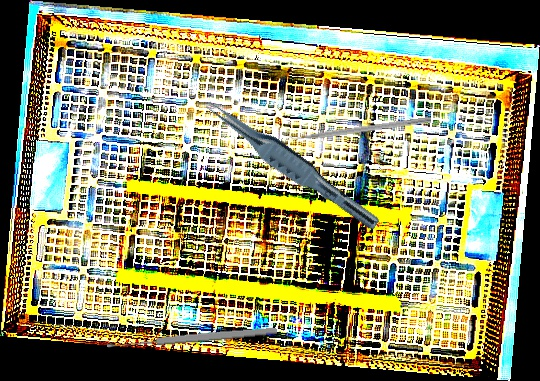Chopper: (282, 108, 432, 144)
Surgical Spoon: (106, 325, 278, 351)
Tissue Forceps: (198, 95, 387, 233)
